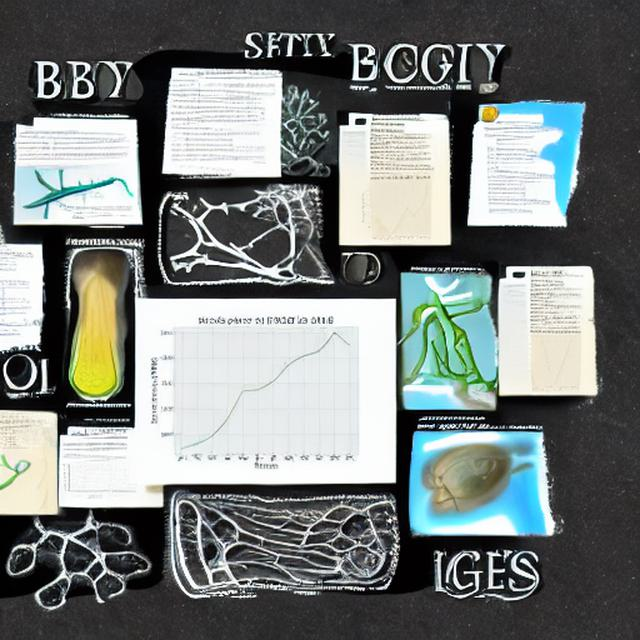Graph: (144, 300, 382, 479), (352, 172, 447, 243), (59, 454, 133, 500)
